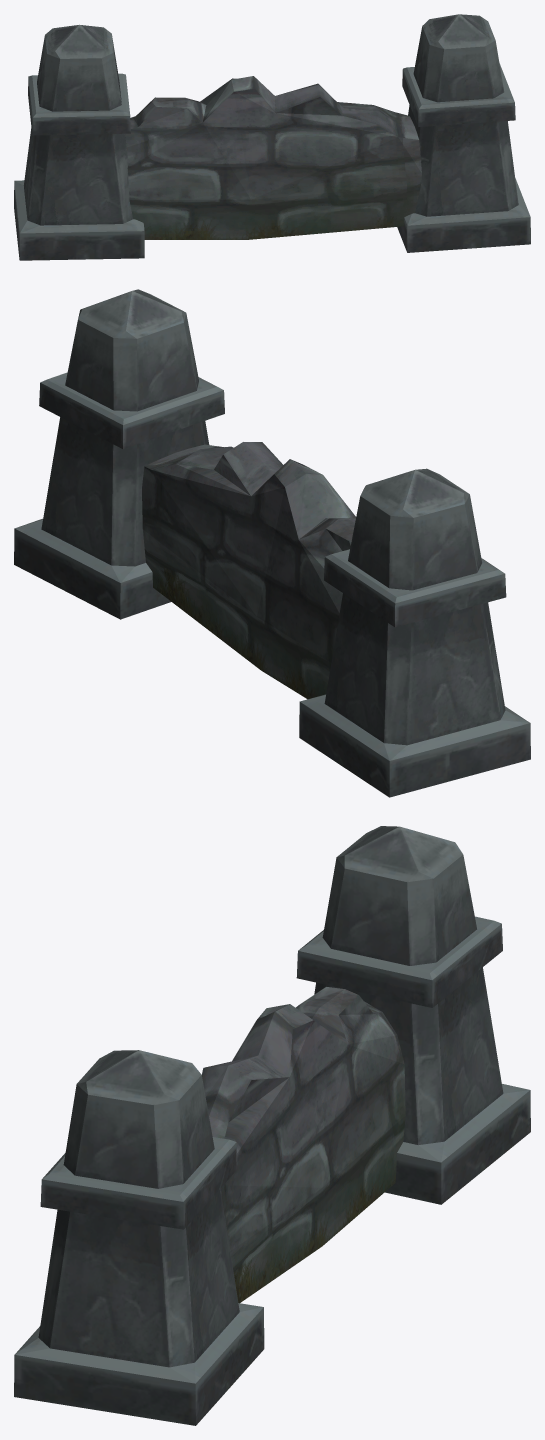
Rendered from object_stonewalls05.fbx.
3 views of the same model, one above another, from view 1: azimuth 30°, elevation 25°; view 2: azimuth 150°, elevation 25°; view 3: azimuth 270°, elevation 25° (orthographic). The views are drawn at different scales.
Visible parts, largest first — view 1: obj1.032; view 2: obj1.032; view 3: obj1.032.
Part boxes in pixels (bbox=[...]): obj1.032: bbox=[14, 14, 530, 260]; obj1.032: bbox=[14, 289, 530, 797]; obj1.032: bbox=[14, 826, 530, 1425].
Bounding box in the file's own units: 4.85 × 2.2 × 3.19.
